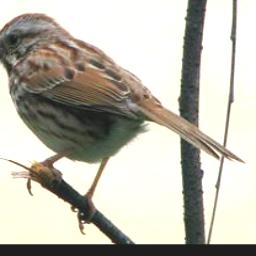Sparrow: (0, 9, 249, 235)
